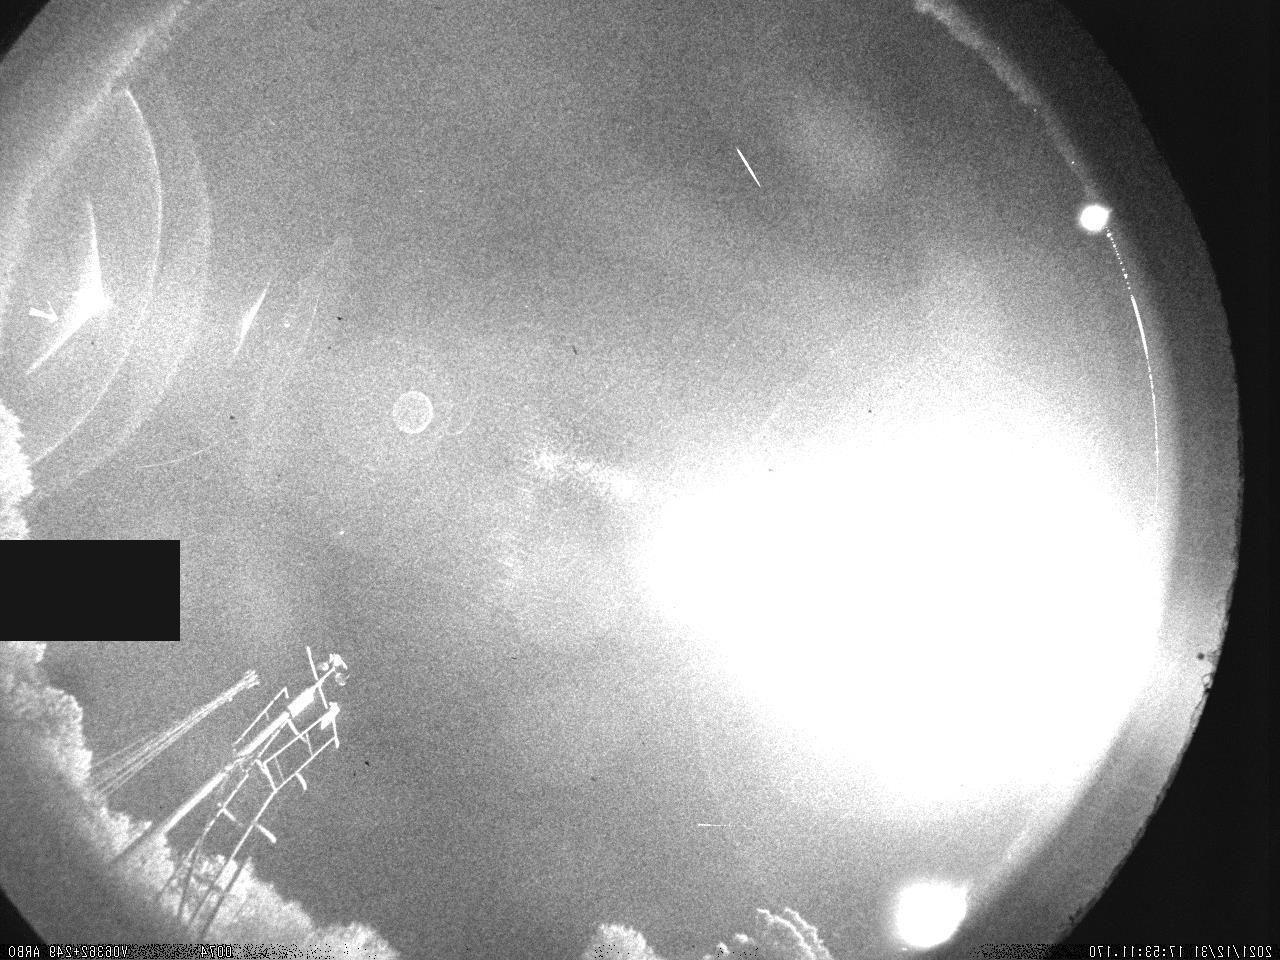meteor: (729, 142, 770, 195)
